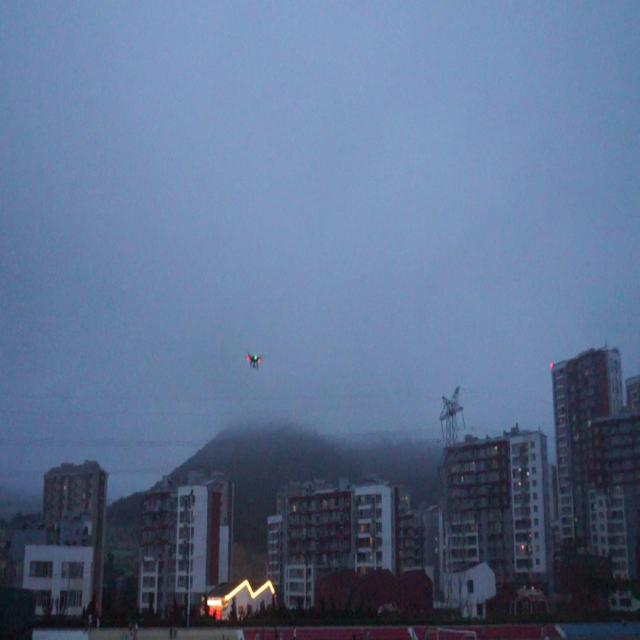drone: (244, 347, 265, 374)
